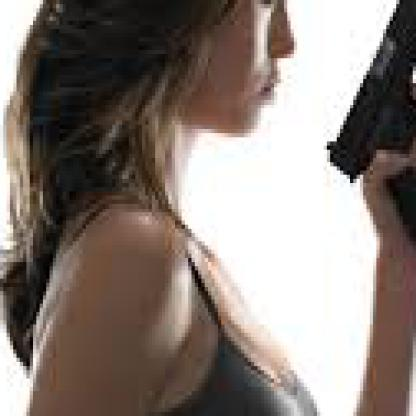gun: (324, 0, 412, 275)
